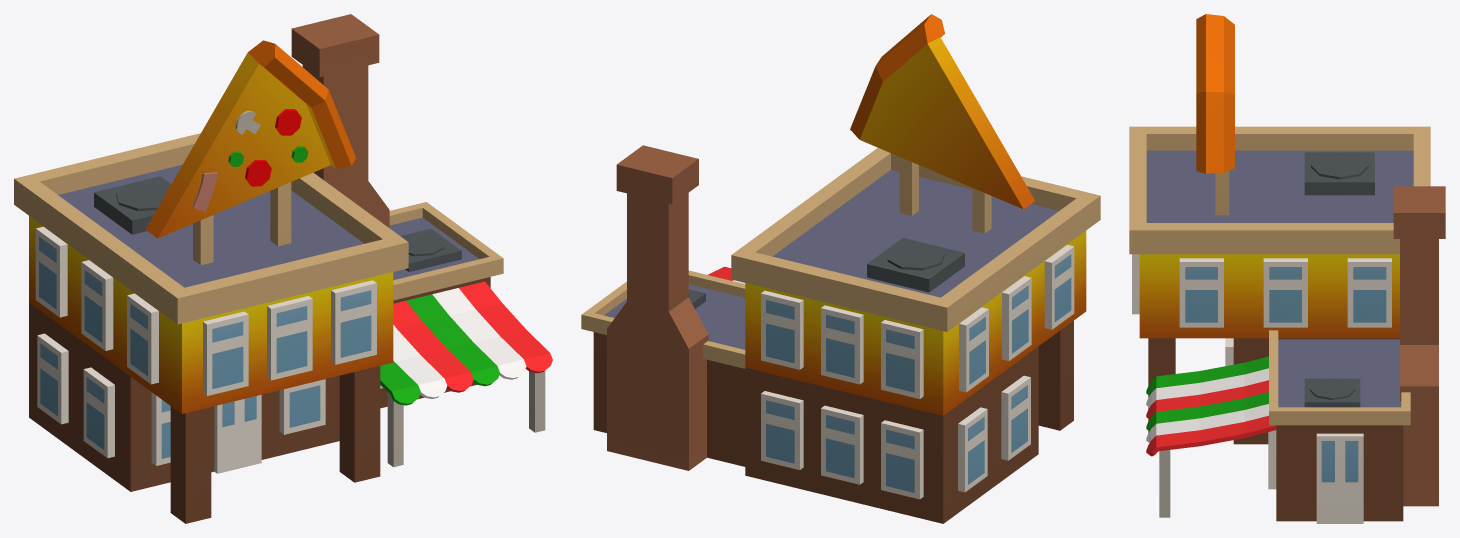
File: pizzeria house.fbx
3 views of the same model, side by side, from view 1: azimuth 30°, elevation 25°; view 2: azimuth 150°, elevation 25°; view 3: azimuth 270°, elevation 25° (orthographic). The views are drawn at different scales.
Visible parts, largest first — view 1: pizzeria_house; view 2: pizzeria_house; view 3: pizzeria_house.
Boxes of the visible parts, x1=… form: pizzeria_house: x1=14, y1=14, x2=552, y2=523; pizzeria_house: x1=581, y1=14, x2=1100, y2=523; pizzeria_house: x1=1129, y1=14, x2=1445, y2=523.
Size of the model in its own units: 917 by 934 by 679.
1 material, 1 textured.
